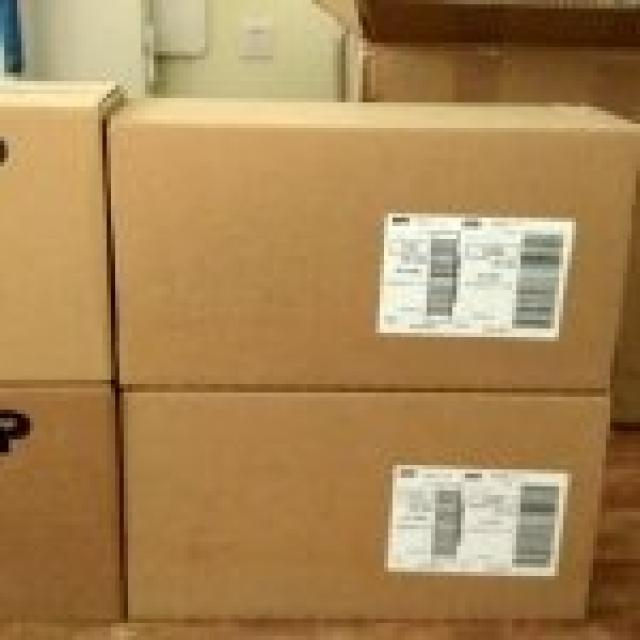box: (107, 96, 636, 391), (118, 391, 611, 622), (311, 0, 636, 128), (0, 77, 126, 388), (0, 386, 123, 624)
